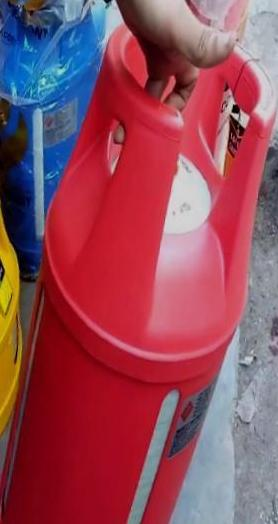cylinder: (1, 1, 278, 524)
